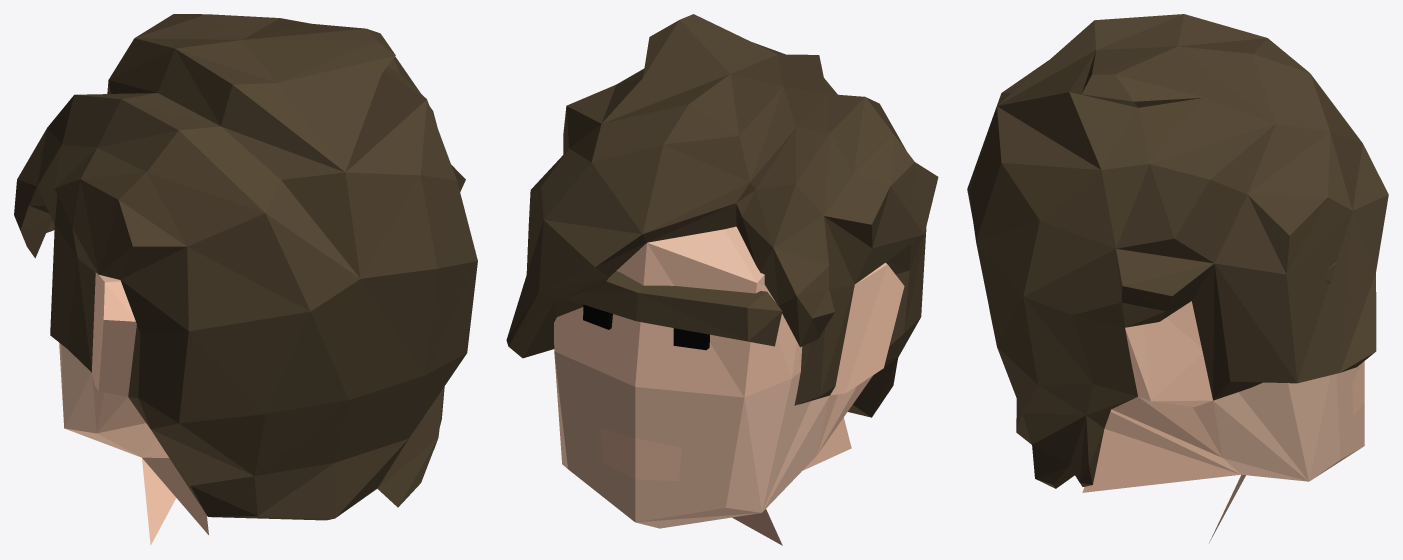
The model's file is Head.obj.
The picture shows the model from 3 angles, left to right: view 1: azimuth 30°, elevation 25°; view 2: azimuth 150°, elevation 25°; view 3: azimuth 270°, elevation 25°; orthographic projection. The views are drawn at different scales.
Bounding box in the file's own units: 0.2892 × 0.3788 × 0.3056.
Materials: 1 (1 with a texture image).
